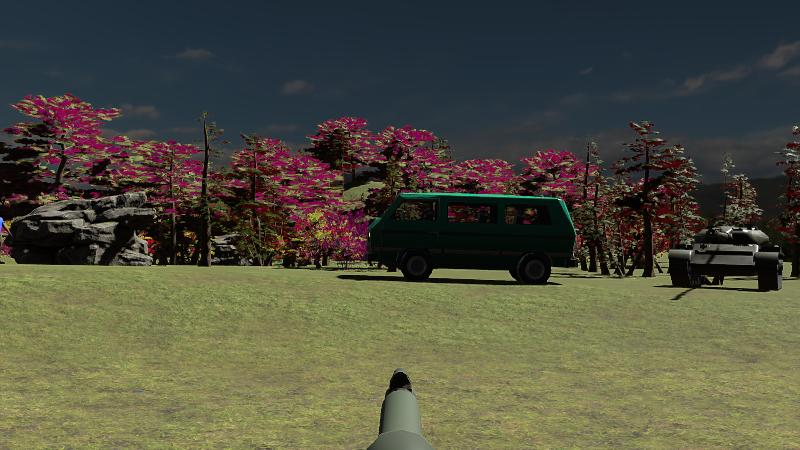Human: (0, 207, 10, 264)
Tank: (668, 224, 784, 291)
car: (367, 191, 577, 286)
